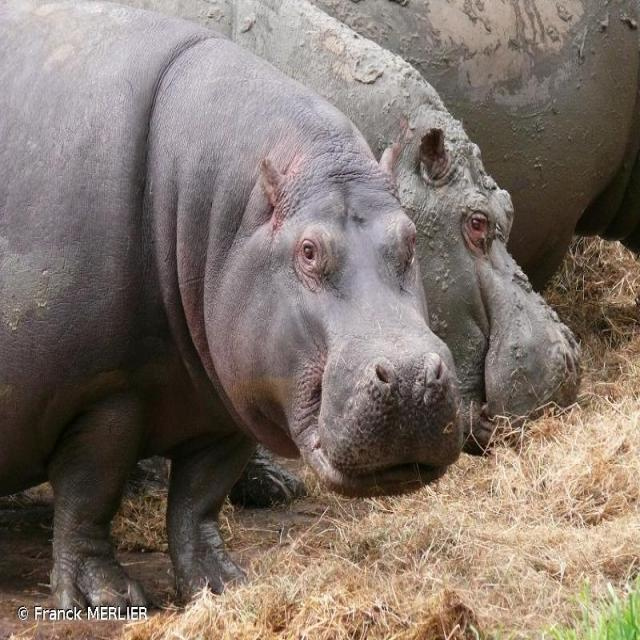Hippopotamus: (0, 14, 463, 596)
